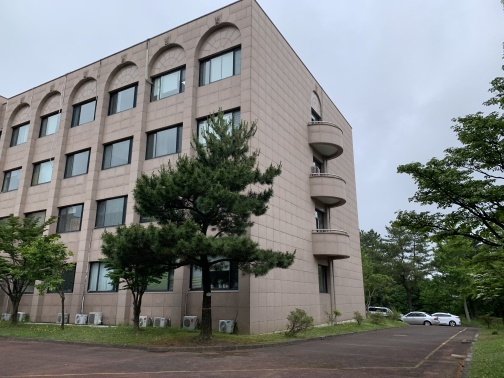Natural Science2: (5, 9, 381, 345), (276, 90, 372, 324)
